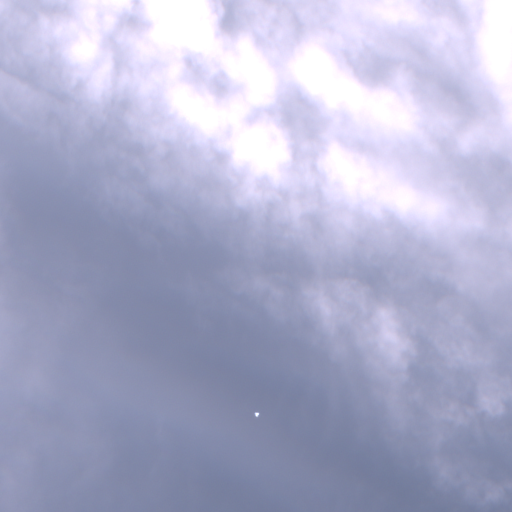Iceberg: (255, 413, 258, 416)
